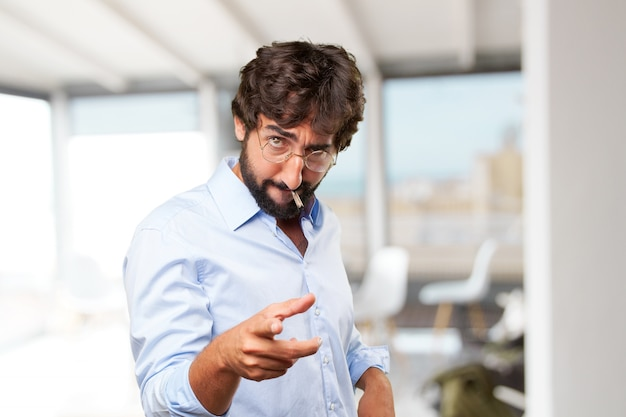cigarette: (291, 189, 305, 210)
